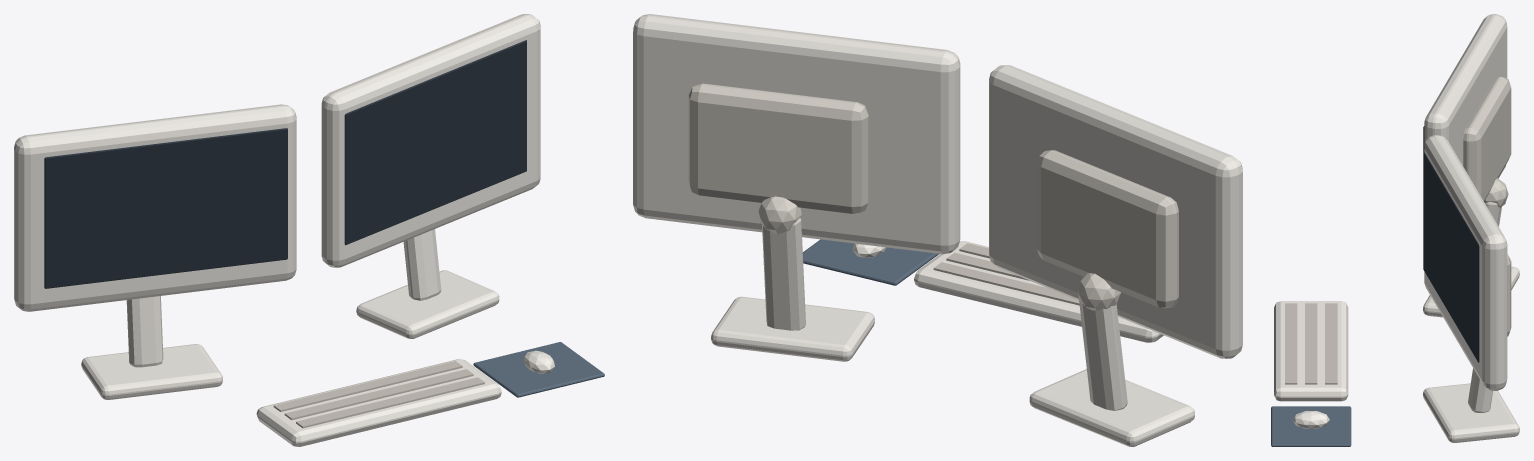
Rendered from monitor_b.glb.
3 renders of one model, left to right at view 1: azimuth 30°, elevation 25°; view 2: azimuth 150°, elevation 25°; view 3: azimuth 270°, elevation 25°, orthographic. The views are drawn at different scales.
Visible parts, largest first — view 1: Monitor, Screen; view 2: Monitor; view 3: Monitor, Screen.
Part boxes in pixels (<box>): Monitor: <box>14,14,604,446</box>; Screen: <box>44,40,526,288</box>; Monitor: <box>633,14,1242,446</box>; Monitor: <box>1271,14,1519,446</box>; Screen: <box>1423,126,1479,362</box>.
Size of the model in its own units: 0.9474 by 0.45 by 0.4346.
